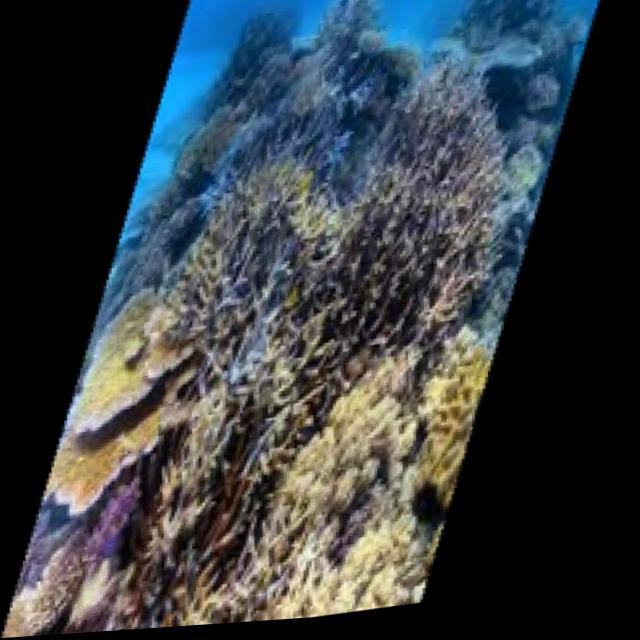Dead Coral: (285, 13, 516, 384), (162, 142, 361, 454), (104, 366, 287, 593)
